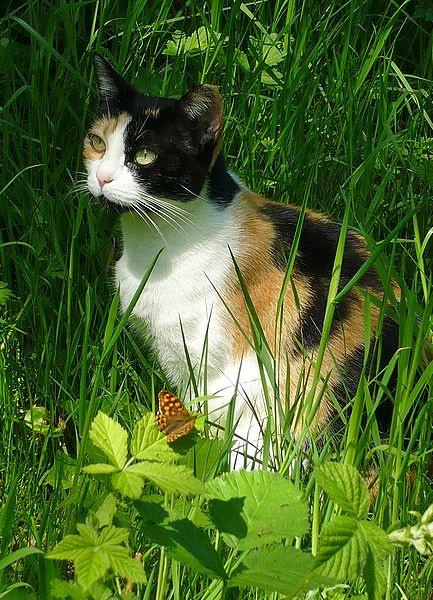kedo: (82, 54, 392, 466)
